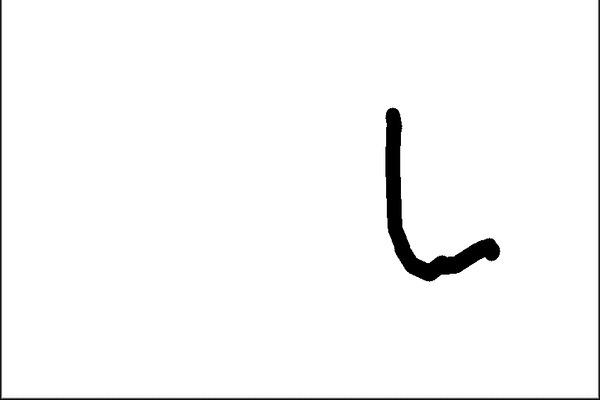L: (373, 97, 504, 284)
